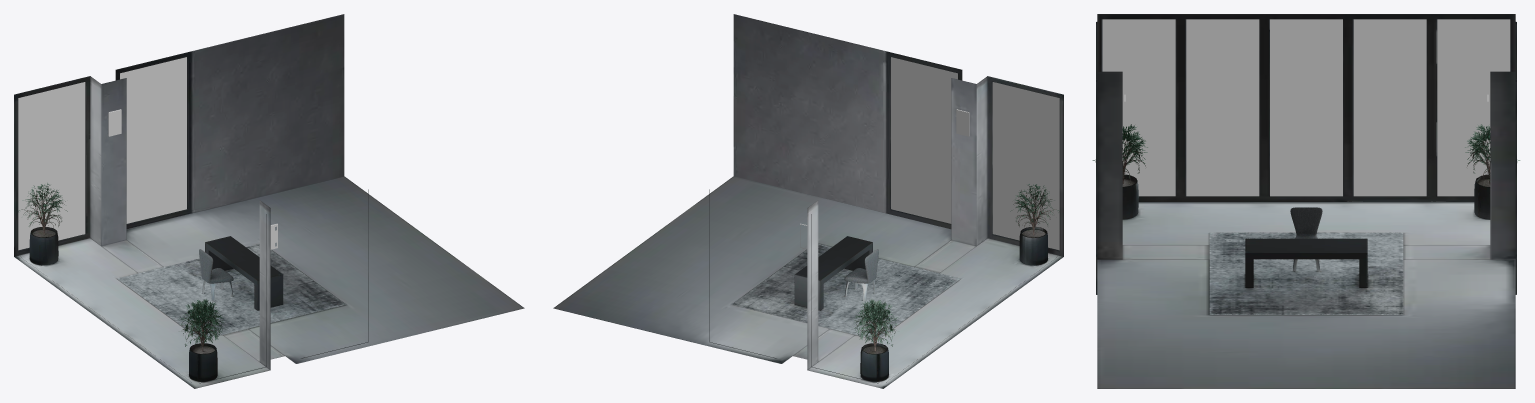
The model's file is office-direction.glb.
The picture shows the model from 3 angles, left to right: view 1: azimuth 30°, elevation 25°; view 2: azimuth 150°, elevation 25°; view 3: azimuth 270°, elevation 25°; orthographic projection. The views are drawn at different scales.
Visible parts, largest first — view 1: Minimalistic Modern Office, Carpet; view 2: Minimalistic Modern Office, Carpet; view 3: Minimalistic Modern Office, Carpet.
Boxes of the visible parts, <box> form: Minimalistic Modern Office: <box>14,14,524,388</box>; Carpet: <box>117,244,345,338</box>; Minimalistic Modern Office: <box>553,14,1063,388</box>; Carpet: <box>732,244,960,338</box>; Minimalistic Modern Office: <box>1092,14,1520,388</box>; Carpet: <box>1209,232,1403,314</box>.
Size of the model in its own units: 8.13 by 3.78 by 7.81.
6 materials, 5 textured.
